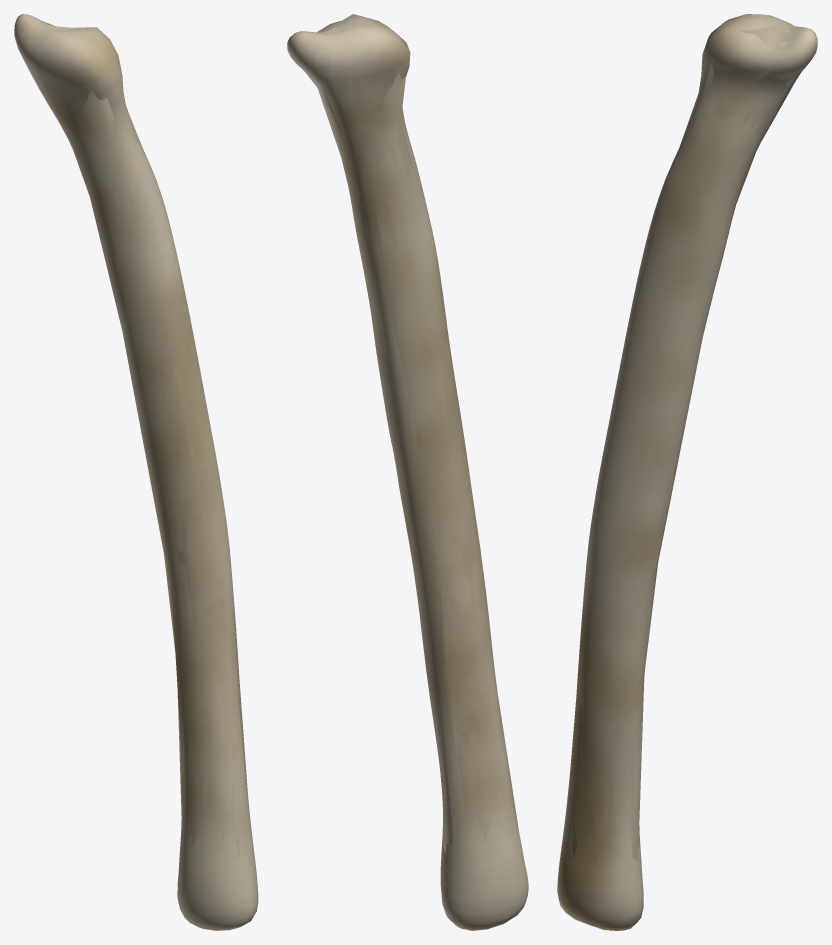
File: R metatarsi quartum.fbx
3 renders of one model, left to right at view 1: azimuth 90°, elevation 25°; view 2: azimuth 150°, elevation 25°; view 3: azimuth 270°, elevation 25°, orthographic. The views are drawn at different scales.
Parts seen in each view (by area): view 1: R metatarsi quartum high, R metatarsi quartum low, R metatarsi quartum; view 2: R metatarsi quartum high, R metatarsi quartum low, R metatarsi quartum; view 3: R metatarsi quartum high, R metatarsi quartum low, R metatarsi quartum.
Part boxes in pixels (x1,y1,x2,y2): R metatarsi quartum high: (14, 14, 258, 930); R metatarsi quartum low: (40, 21, 247, 856); R metatarsi quartum: (38, 19, 251, 874); R metatarsi quartum high: (287, 14, 528, 930); R metatarsi quartum low: (304, 20, 519, 853); R metatarsi quartum: (309, 29, 517, 840); R metatarsi quartum high: (557, 14, 817, 930); R metatarsi quartum low: (568, 26, 799, 865); R metatarsi quartum: (563, 25, 804, 858).
Bounding box in the file's own units: 2.81 × 19.39 × 4.91.
